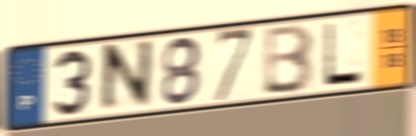3: (51, 47, 93, 119)
7: (213, 26, 257, 105)
8: (160, 34, 202, 108)
B: (261, 21, 316, 97)
L: (321, 20, 366, 88)
N: (97, 36, 155, 118)
